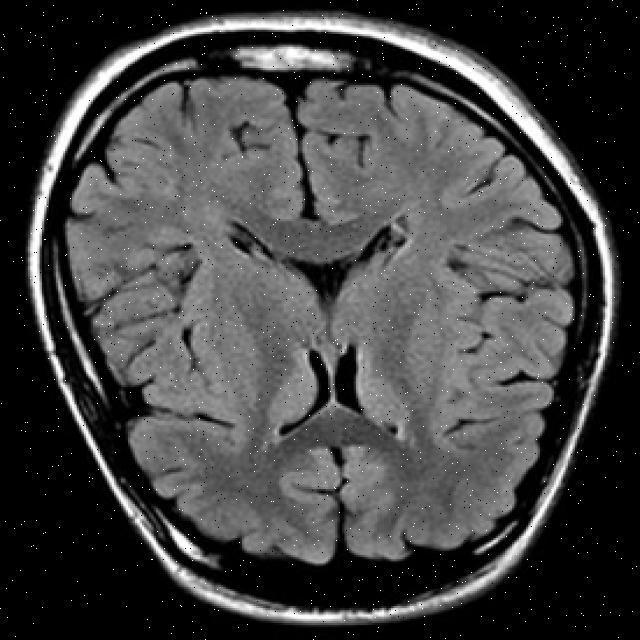No_Tumor: (27, 13, 618, 623)
